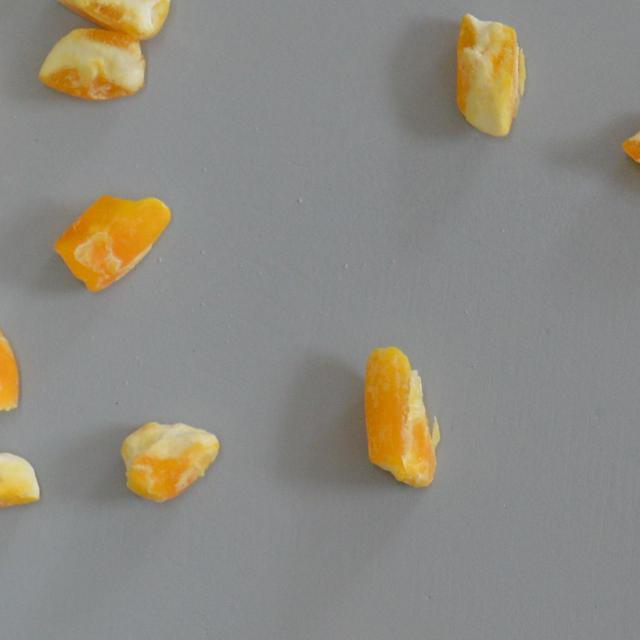pelicula: (360, 343, 444, 490), (49, 191, 170, 292), (452, 12, 525, 137), (40, 24, 148, 102), (118, 420, 220, 502), (54, 0, 171, 38), (0, 442, 40, 511), (0, 307, 24, 416), (620, 110, 640, 194)
